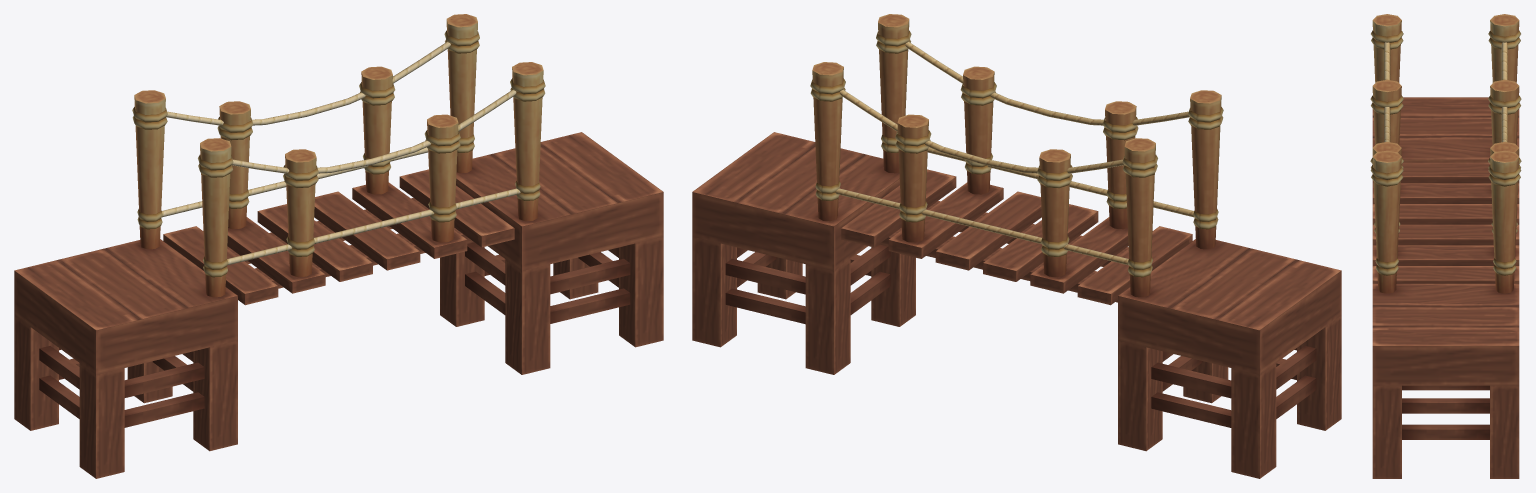
The model's file is Suspension bridge W4.fbx.
3 views of the same model, side by side, from view 1: azimuth 30°, elevation 25°; view 2: azimuth 150°, elevation 25°; view 3: azimuth 270°, elevation 25° (orthographic). The views are drawn at different scales.
Visible parts, largest first — view 1: suspensionBridge_W4; view 2: suspensionBridge_W4; view 3: suspensionBridge_W4.
Part boxes in pixels (left/top/right/bottom): suspensionBridge_W4: left=14, top=14, right=663, bottom=478; suspensionBridge_W4: left=692, top=14, right=1341, bottom=478; suspensionBridge_W4: left=1370, top=14, right=1521, bottom=478.
Bounding box in the file's own units: 4 × 2 × 1.03.
